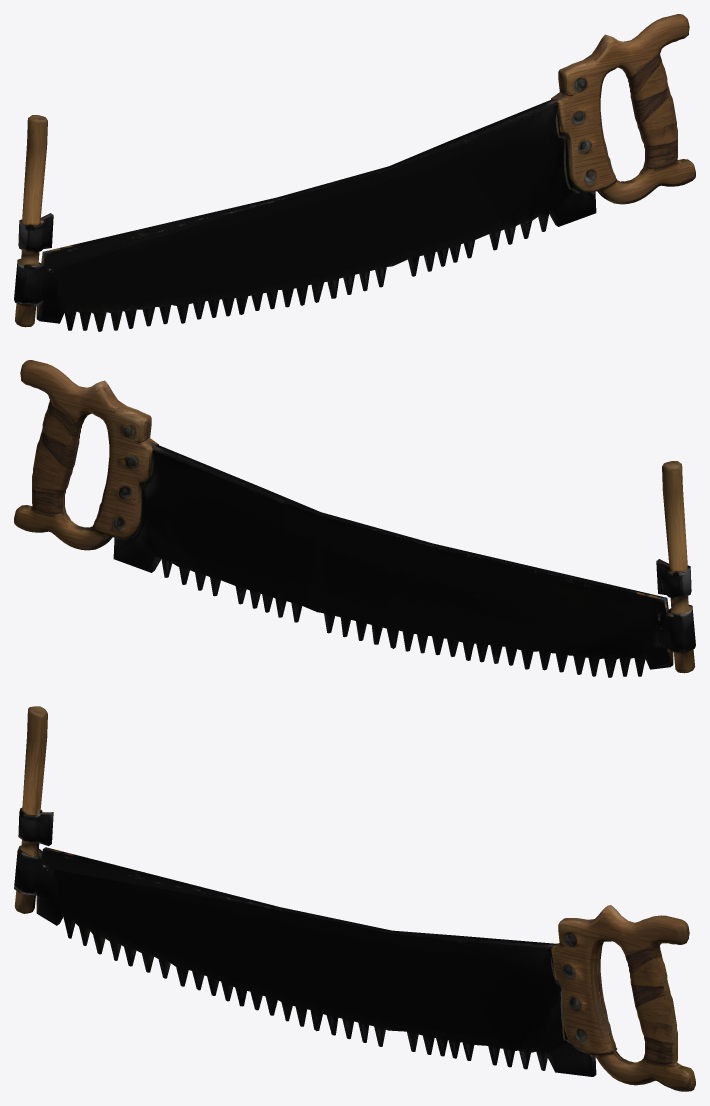
Rendered from saw.fbx.
3 views of the same model, one above another, from view 1: azimuth 30°, elevation 25°; view 2: azimuth 150°, elevation 25°; view 3: azimuth 330°, elevation 25° (orthographic).
Visible parts, largest first — view 1: Saw; view 2: Saw; view 3: Saw.
Boxes of the visible parts, left/top/right/bottom form: Saw: left=14, top=14, right=695, bottom=331; Saw: left=14, top=360, right=695, bottom=677; Saw: left=14, top=706, right=695, bottom=1091.
Size of the model in its own units: 3.94 by 41.62 by 116.
